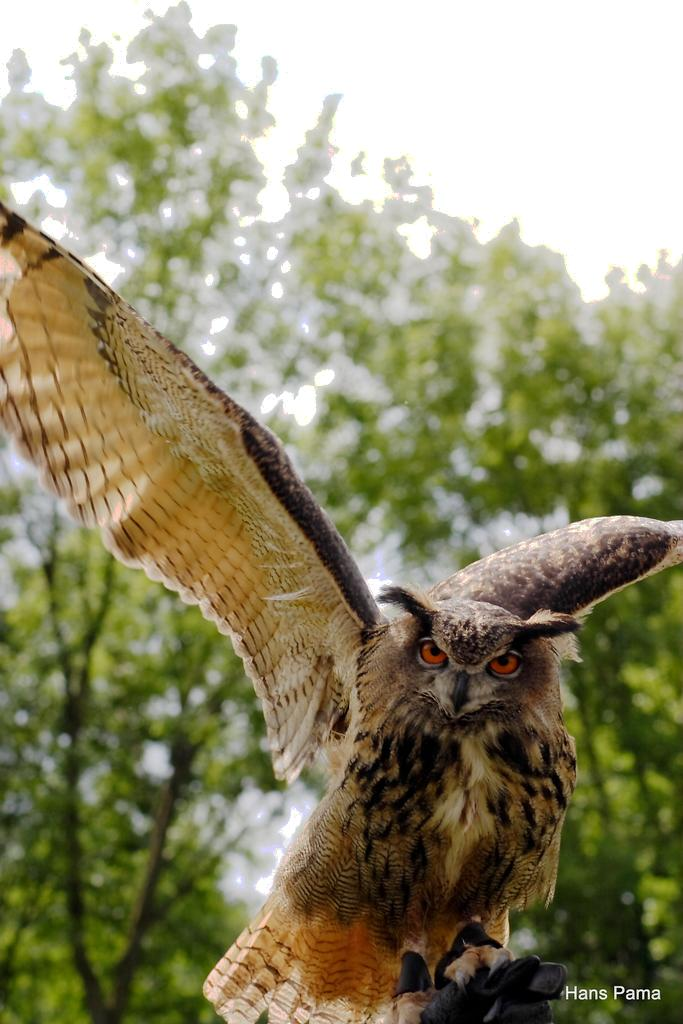Owl: (0, 196, 682, 1024)
